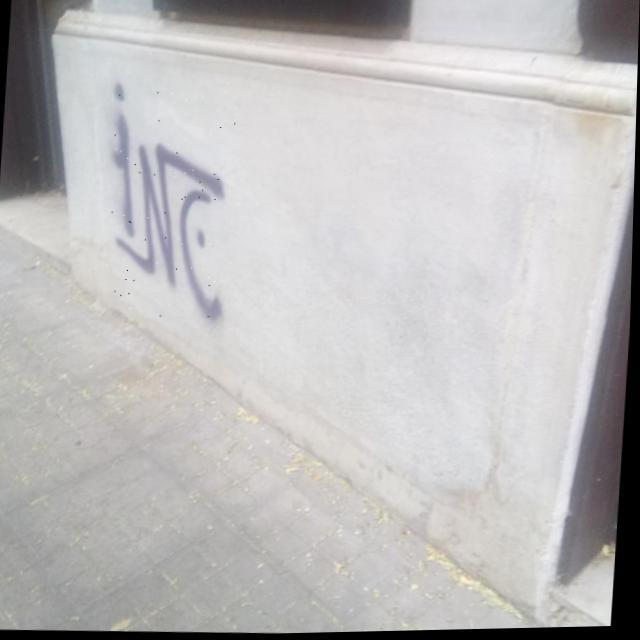-: (103, 82, 239, 321)
